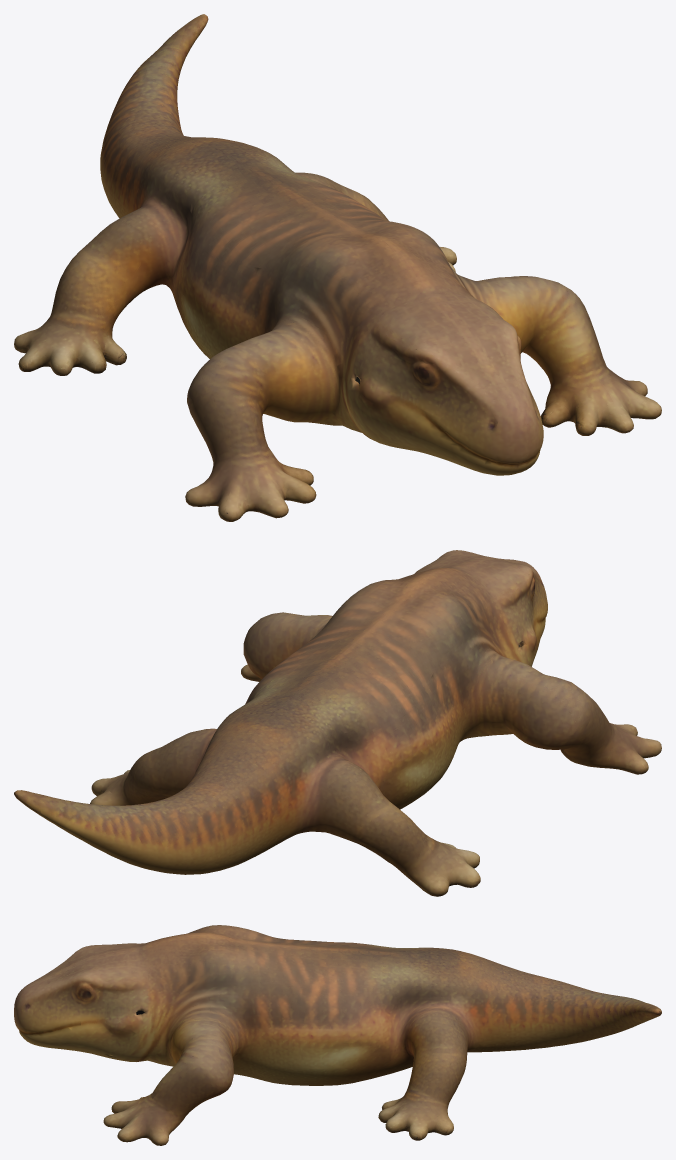
3 renders of one model, top to bottom at view 1: azimuth 30°, elevation 25°; view 2: azimuth 150°, elevation 25°; view 3: azimuth 270°, elevation 25°, orthographic. The views are drawn at different scales.
Parts seen in each view (by area): view 1: world; view 2: world; view 3: world.
Part boxes in pixels (box(x1,y1,x2,y2)): world: box(14, 14, 661, 521); world: box(14, 550, 661, 896); world: box(14, 925, 661, 1145).
Bounding box in the file's own units: 0.3798 × 0.1538 × 0.65.
1 material, 1 textured.
